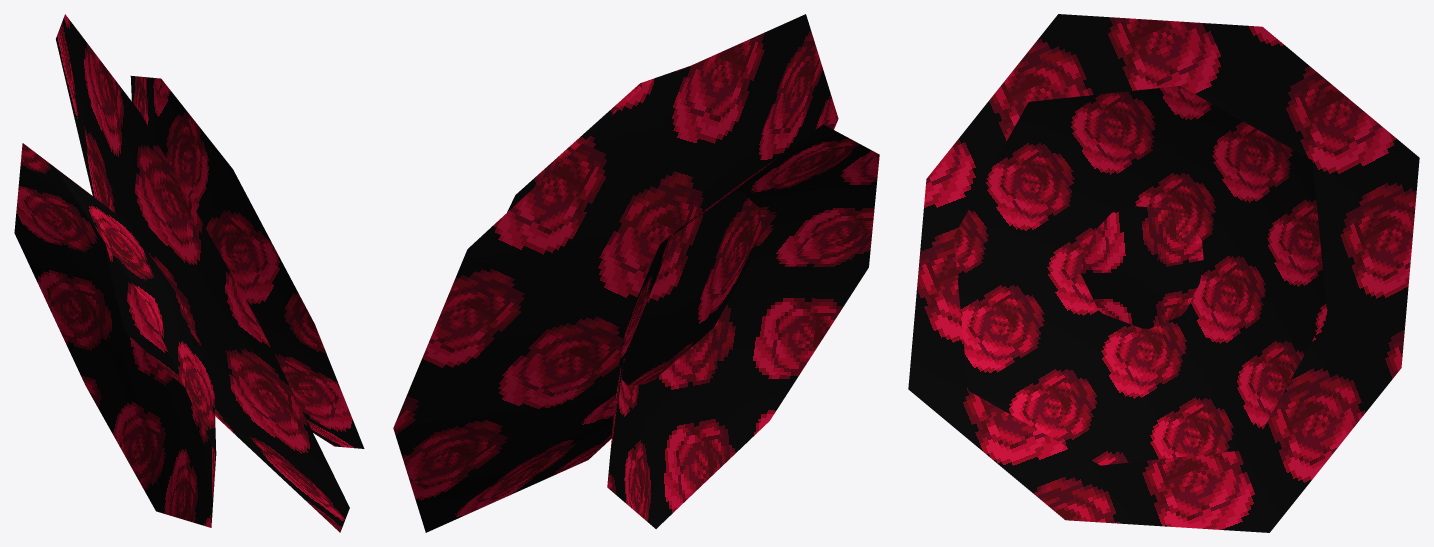
File: 2933head083_c.gltf
The picture shows the model from 3 angles, left to right: view 1: azimuth 30°, elevation 25°; view 2: azimuth 150°, elevation 25°; view 3: azimuth 270°, elevation 25°; orthographic projection. The views are drawn at different scales.
Visible parts, largest first — view 1: 2933head083_c; view 2: 2933head083_c; view 3: 2933head083_c.
Part boxes in pixels (x1,y1,x2,y2): 2933head083_c: (14, 14, 364, 532); 2933head083_c: (393, 14, 879, 532); 2933head083_c: (908, 14, 1419, 532).
Bounding box in the file's own units: 0.3252 × 0.5034 × 0.5518.
1 material, 1 textured.
